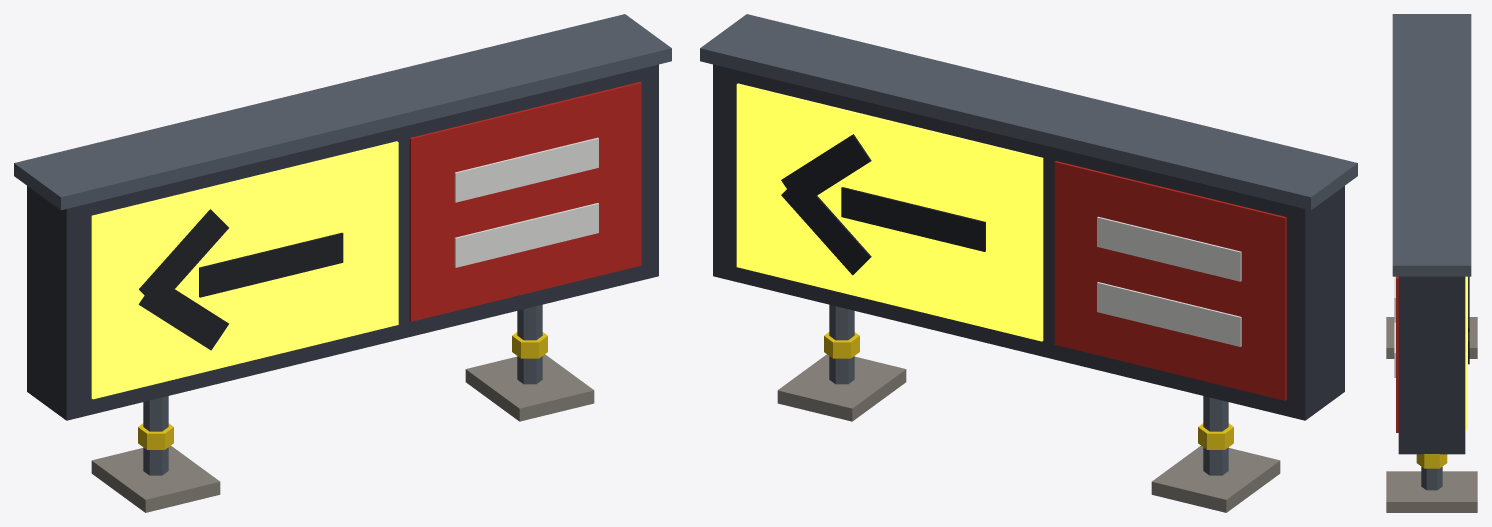
The model's file is runway_sign.glb.
The picture shows the model from 3 angles, left to right: view 1: azimuth 30°, elevation 25°; view 2: azimuth 150°, elevation 25°; view 3: azimuth 270°, elevation 25°; orthographic projection. The views are drawn at different scales.
Visible parts, largest first — view 1: Sign; view 2: Sign; view 3: Sign.
Boxes of the visible parts, x1,y1,x2,y2 form: Sign: [14, 14, 671, 512]; Sign: [700, 14, 1357, 512]; Sign: [1386, 14, 1477, 512].
Size of the model in its own units: 1.96 by 1.02 by 0.3.
